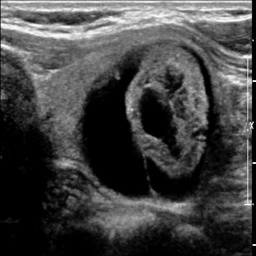mass: (80, 43, 218, 197)
